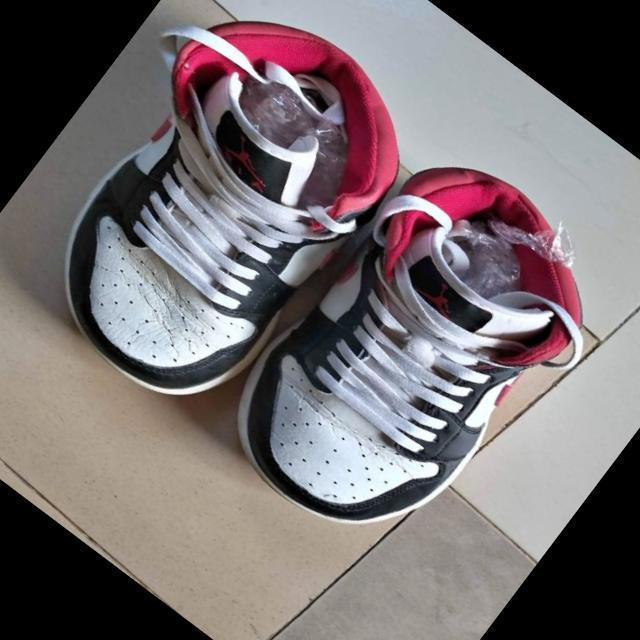nike fake jordan 1: (197, 125, 634, 587), (0, 0, 452, 446)
